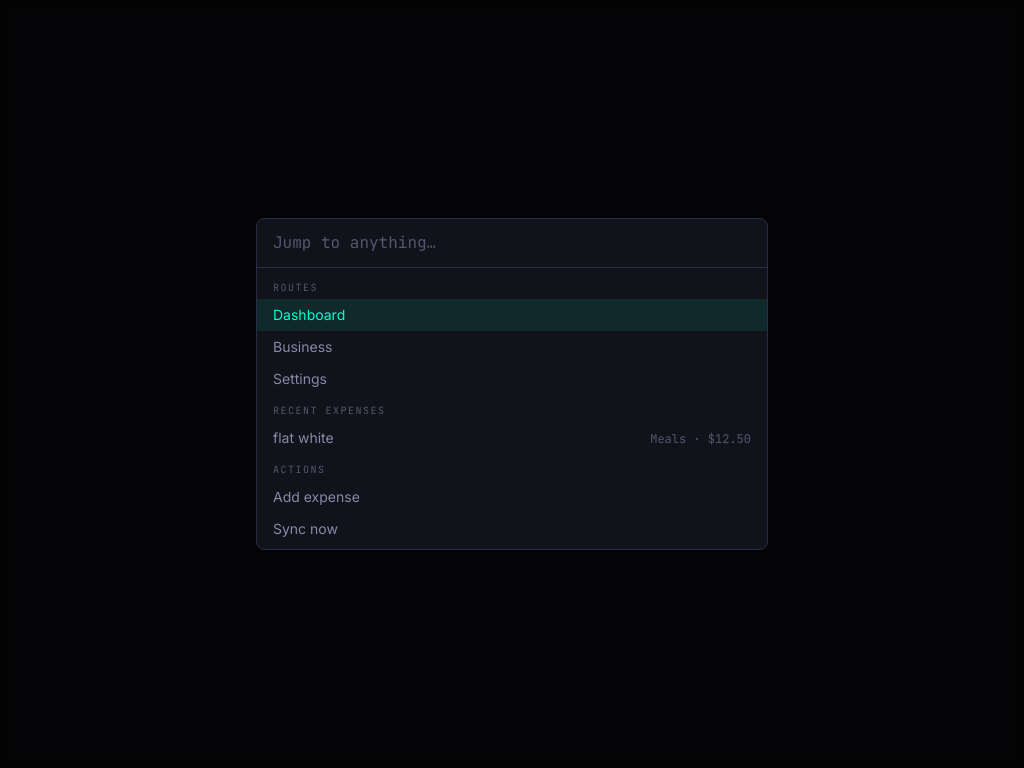
Scenario: CommandPalette › shows a no-results row for a non-matching query
This screenshot has width=1024, height=768.
In the dropdown with placeholder "Jump to anything…": (512, 244) left=257, top=219, right=767, bottom=268, type "zzzzz"
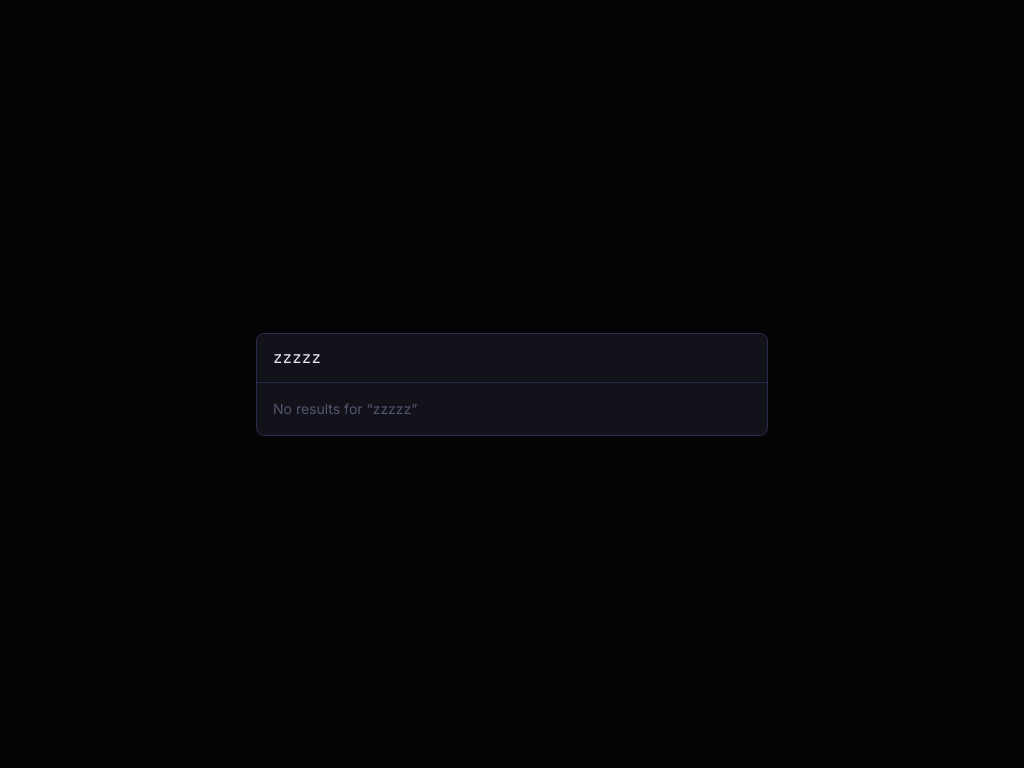
Now the text "No results for “zzzzz”" is shown, box left=273, top=400, right=418, bottom=416
Now no options are shown
